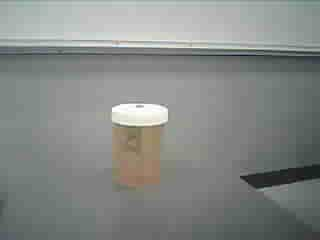Bottle B: (101, 96, 175, 200)
